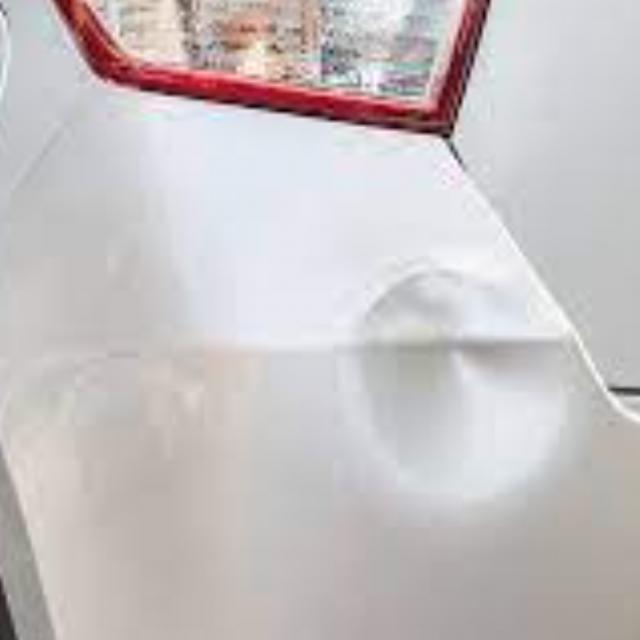dents: (344, 255, 596, 516)
